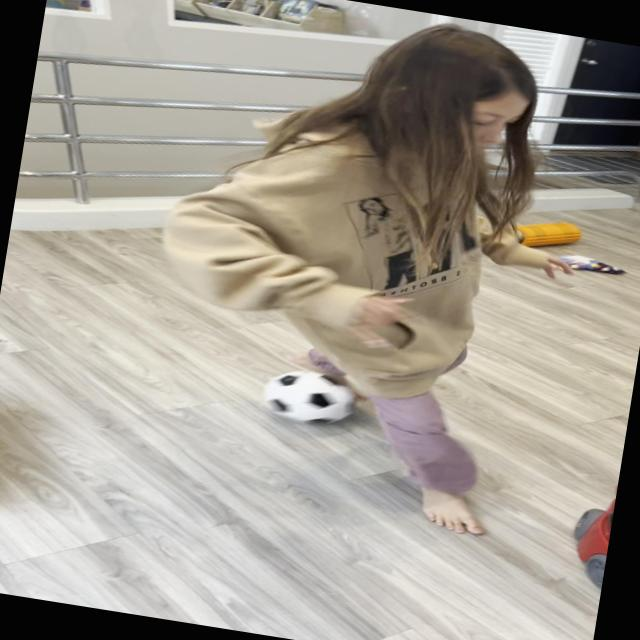Soccer Ball: (261, 364, 362, 430)
